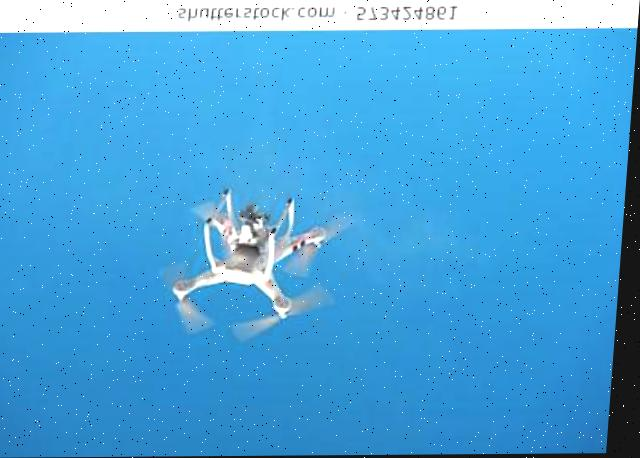drone: (97, 122, 400, 403)
